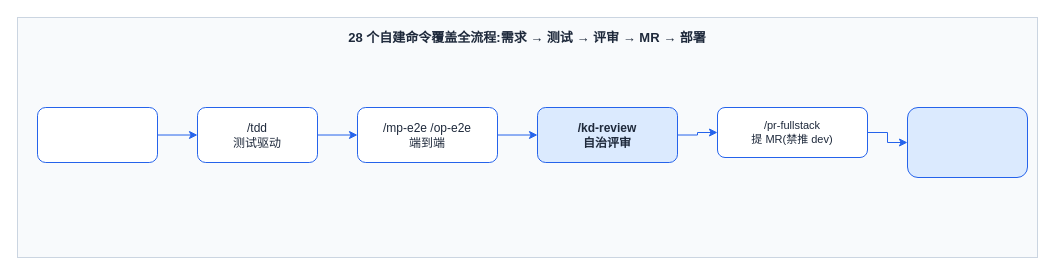
Image size: 1055x275. Some labels were removed from this diagram. The centre of each missing label's shape, as x and y in pixels:
"/deploy-prod-be-ops 部署" belongs at point (967, 142).
"/prd 产品需求" belongs at point (97, 134).
